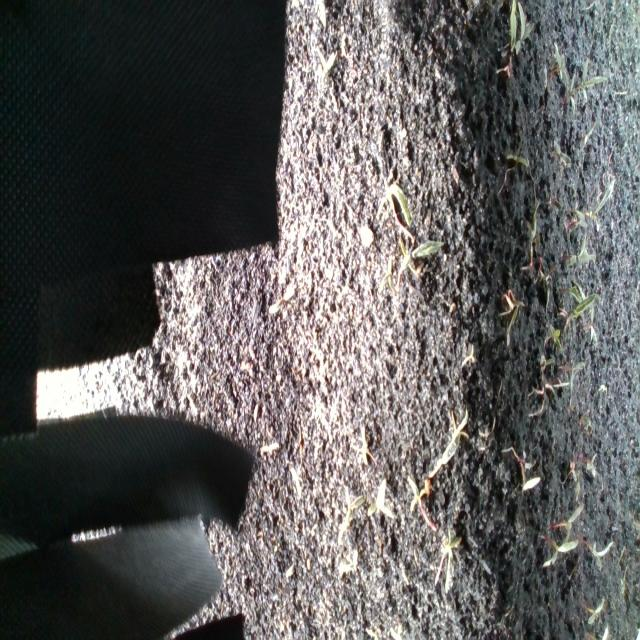weed: (266, 284, 296, 314)
